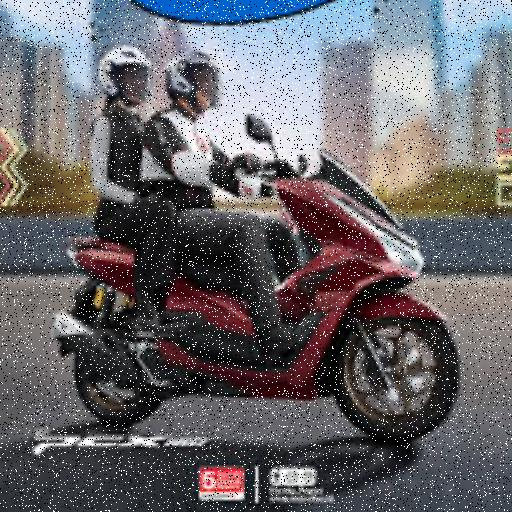Helmet: (96, 43, 153, 111), (166, 51, 226, 111)
Motor: (51, 116, 459, 442)
